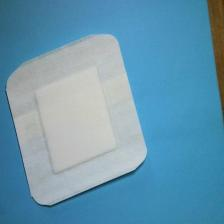Dressing: (6, 32, 150, 210)
